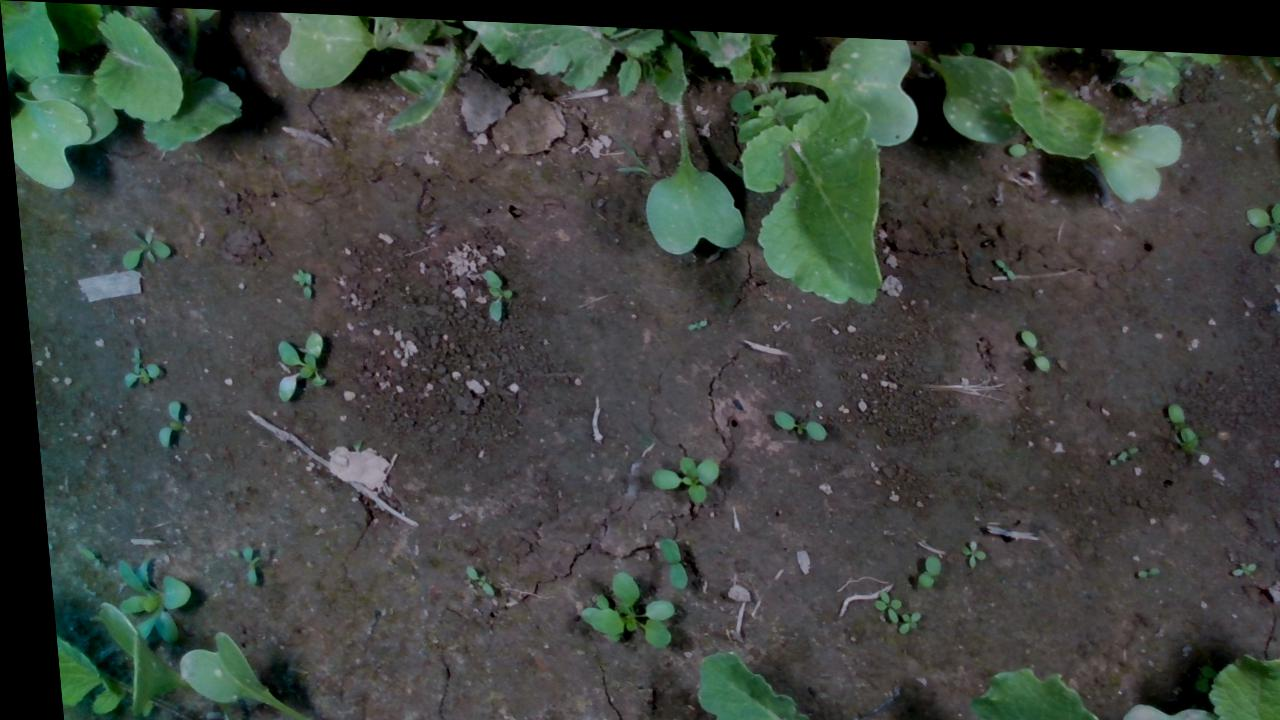weed: (639, 445, 712, 499), (112, 223, 170, 268), (143, 394, 178, 450), (763, 400, 821, 433), (646, 530, 679, 586), (1011, 319, 1046, 365), (901, 544, 934, 585), (949, 528, 979, 559), (228, 540, 247, 584), (1216, 548, 1249, 567), (986, 247, 1011, 272), (1121, 553, 1153, 570)
